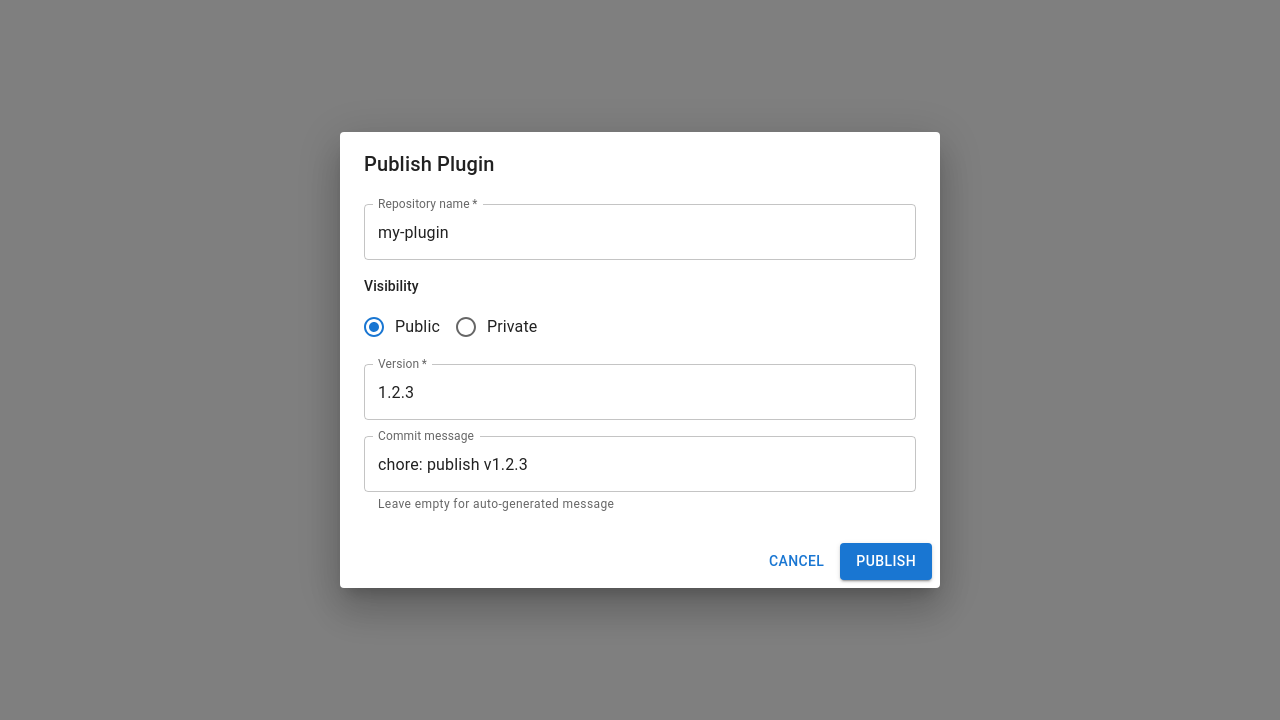
Scenario: <PublishPluginDialog> — first publish › updates the commit message as the version changes
The width and height of the screenshot is (1280, 720).
Replace the text in the field labelled "Version *" with "2.0.0" at x=640, y=392, box 364,364 -> 916,420
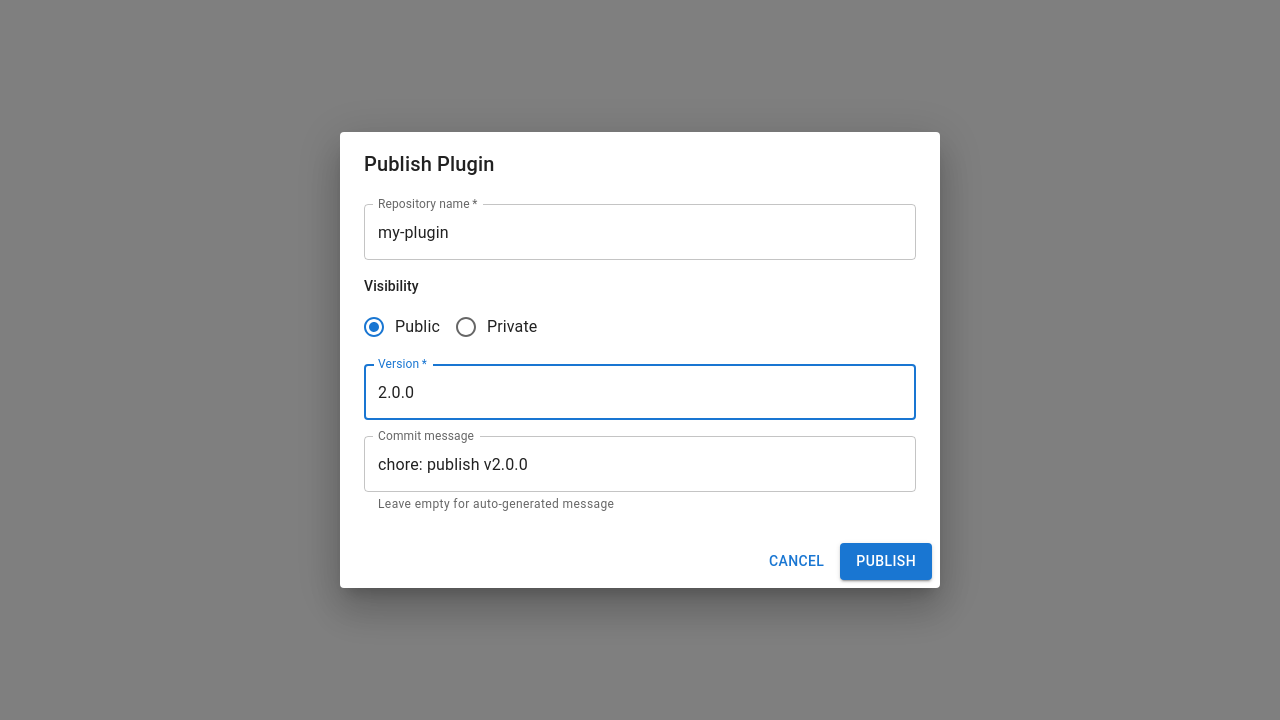
Expected: the field labelled "Commit message" holds "chore: publish v2.0.0", 364,436 -> 916,492
